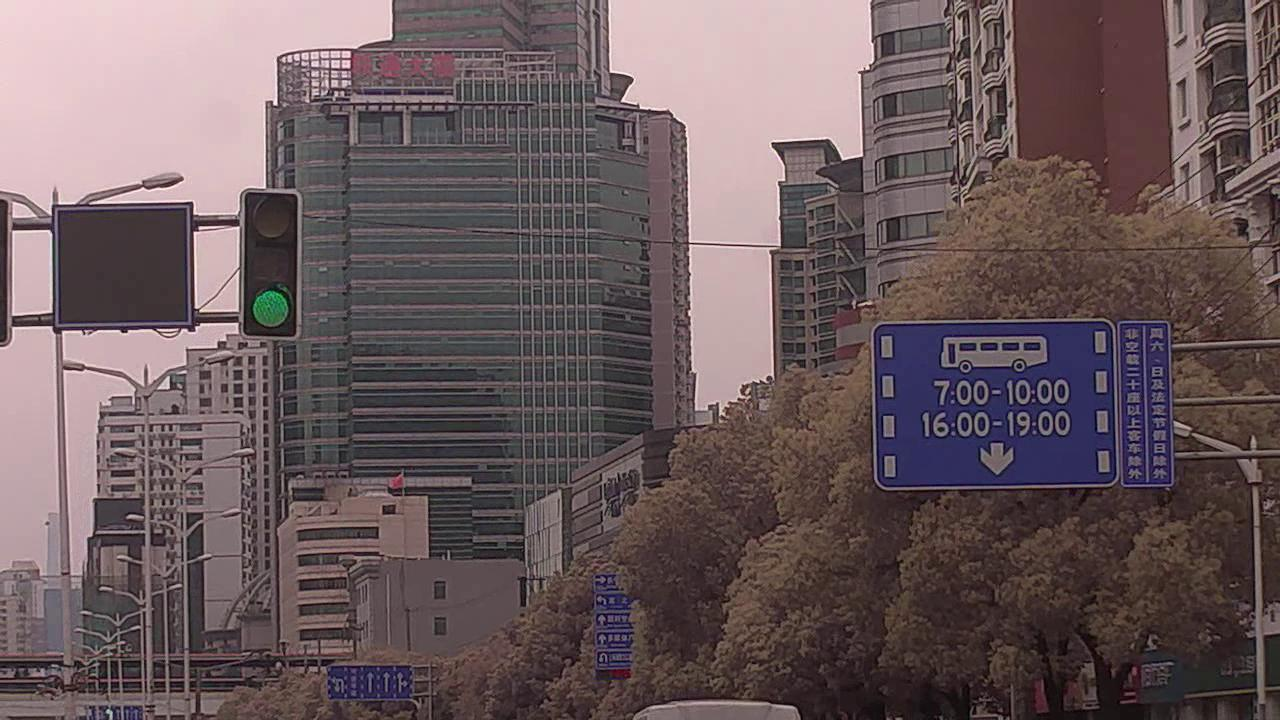traffic_light: (245, 185, 304, 339)
